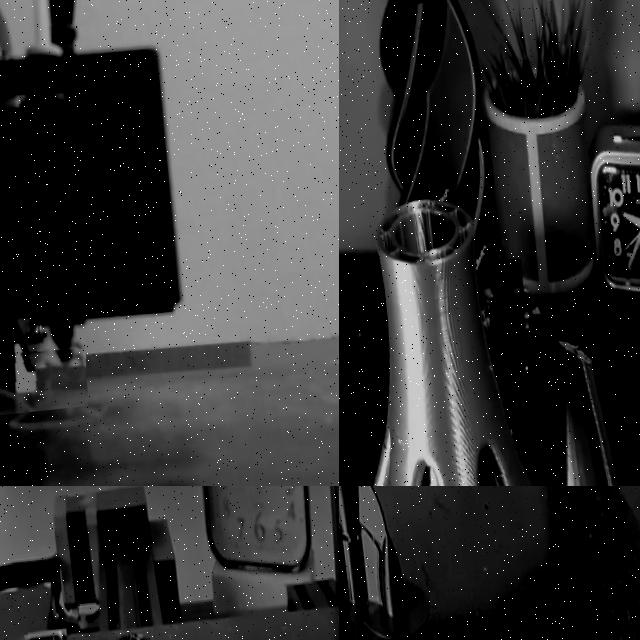spaghetti: (0, 362, 87, 412), (472, 238, 492, 279), (437, 181, 451, 200)
